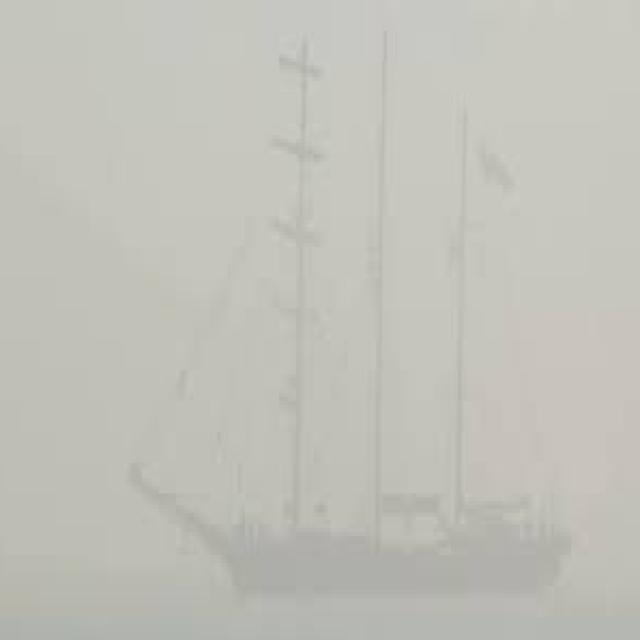fishing boat: (122, 39, 567, 597)
